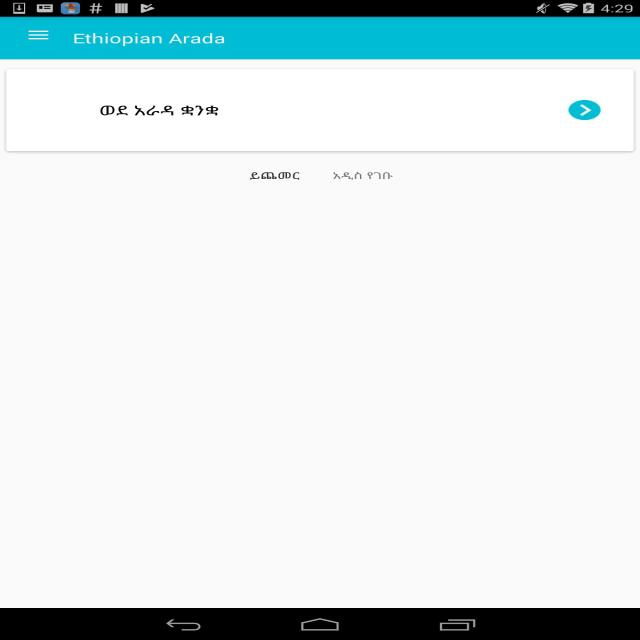button: (324, 168, 407, 185), (243, 169, 308, 187), (566, 100, 606, 124), (27, 23, 52, 48)
heading: (73, 33, 231, 46)
text: (89, 99, 228, 123)
